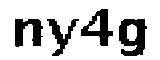4: (80, 6, 114, 50)
g: (114, 13, 151, 60)
n: (11, 14, 43, 51)
y: (47, 16, 80, 60)
